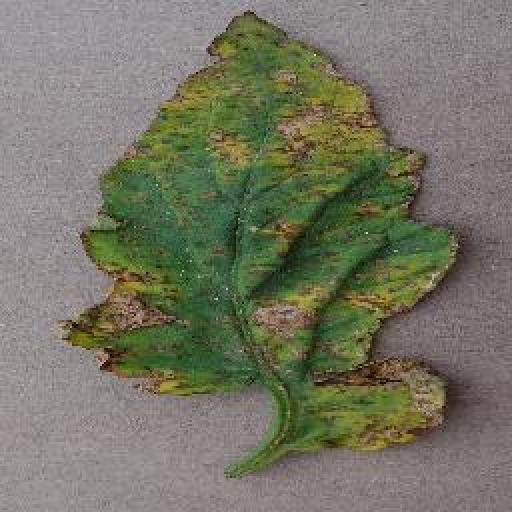Bacterial Spot: (52, 7, 464, 457)
